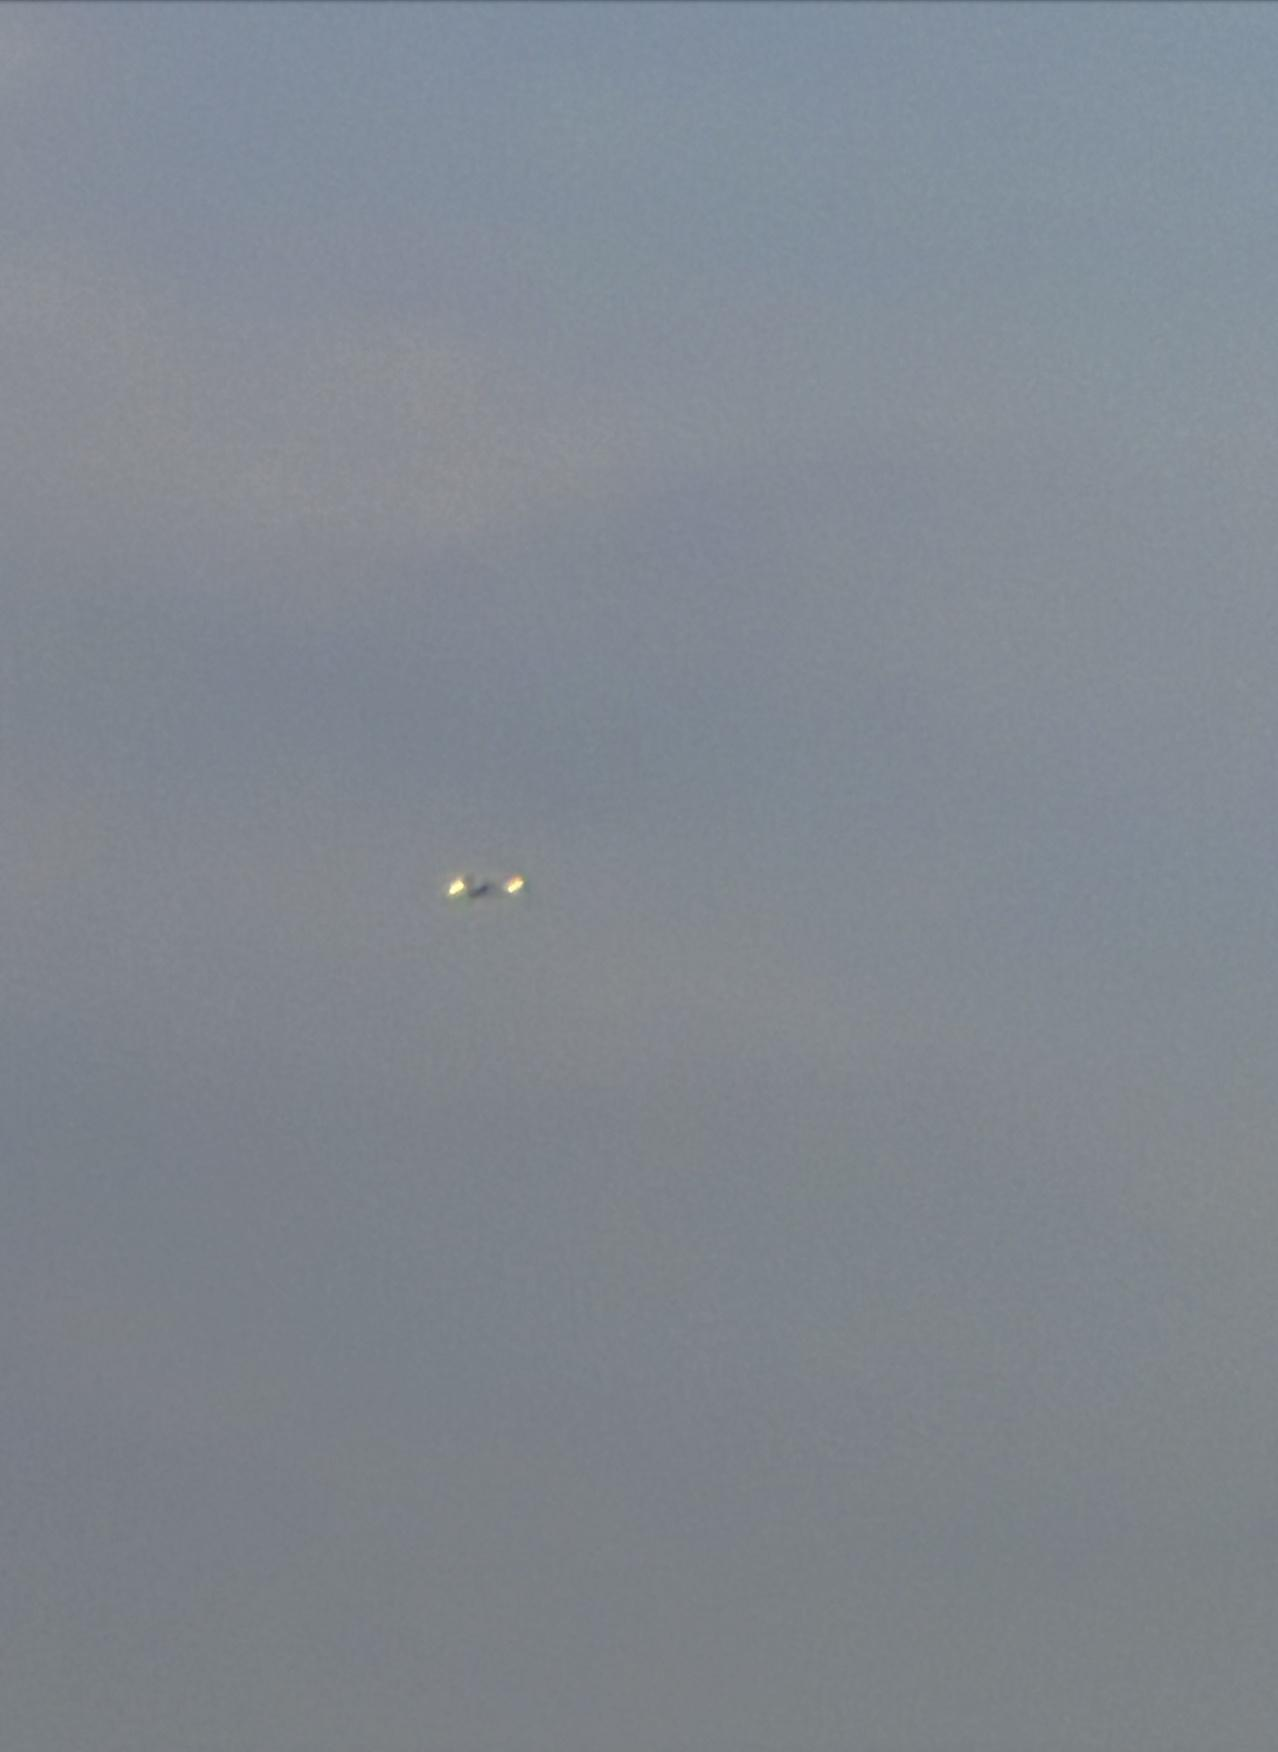Plane: (411, 835, 552, 945)
